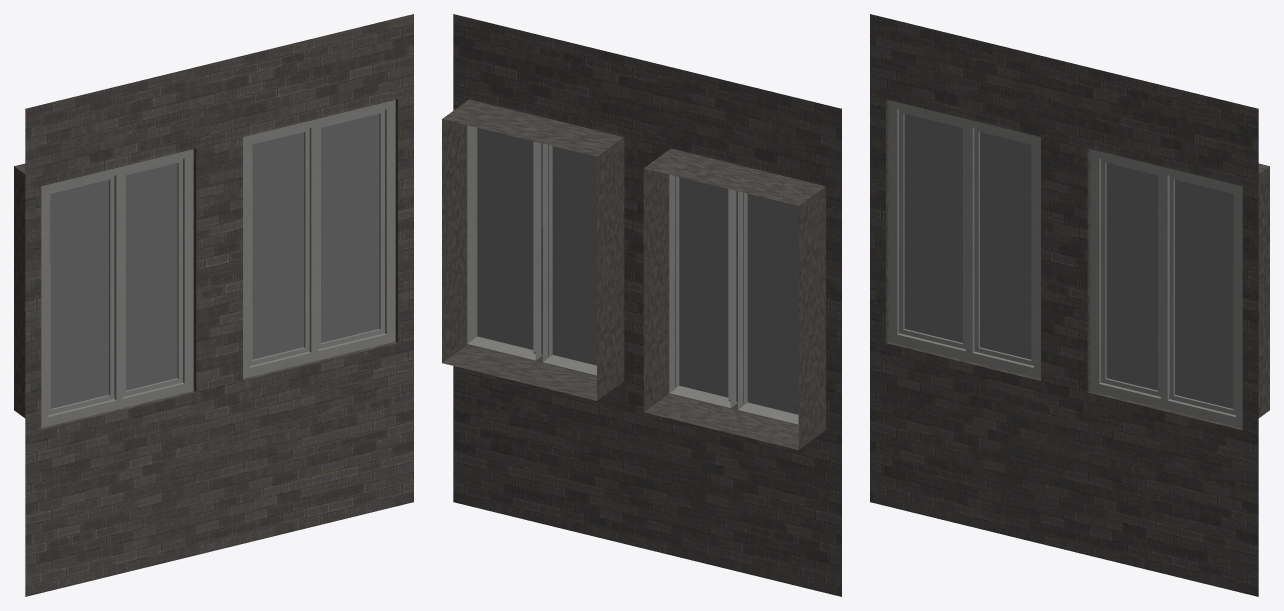
File: Sm_Window03.fbx
The picture shows the model from 3 angles, left to right: view 1: azimuth 30°, elevation 25°; view 2: azimuth 150°, elevation 25°; view 3: azimuth 330°, elevation 25°; orthographic projection.
Parts seen in each view (by area): view 1: Sm_Window03; view 2: Sm_Window03; view 3: Sm_Window03.
Boxes of the visible parts, x1,y1,x2,y2 form: Sm_Window03: (14, 14, 413, 596); Sm_Window03: (442, 14, 841, 596); Sm_Window03: (870, 14, 1269, 596).
Size of the model in its own units: 250 by 30.37 by 300.
Materials: 3 (3 with a texture image).
